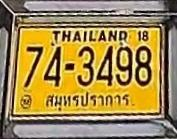3: (76, 45, 94, 85)
4: (43, 45, 60, 86), (96, 45, 112, 85)
7: (24, 45, 42, 86)
8: (134, 45, 151, 85)
9: (115, 45, 132, 85)
SPK: (43, 91, 132, 111)
